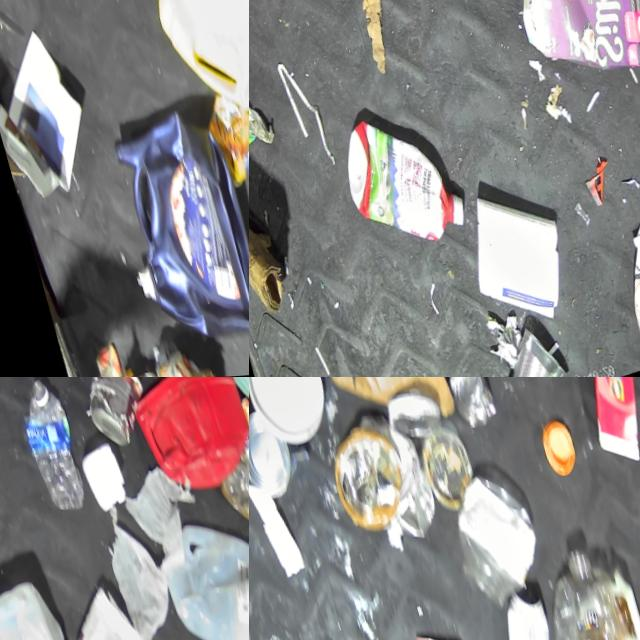can: (71, 377, 158, 462), (249, 401, 301, 510), (488, 581, 570, 640), (489, 322, 571, 377), (382, 387, 447, 455), (439, 377, 500, 440)
milk_jug: (151, 499, 249, 640), (0, 568, 121, 640)
non_white_jug: (95, 96, 249, 371), (332, 98, 470, 267), (133, 0, 249, 143), (508, 0, 640, 105), (610, 215, 640, 375)
plastic_bottle: (11, 377, 91, 528), (526, 539, 640, 640)
